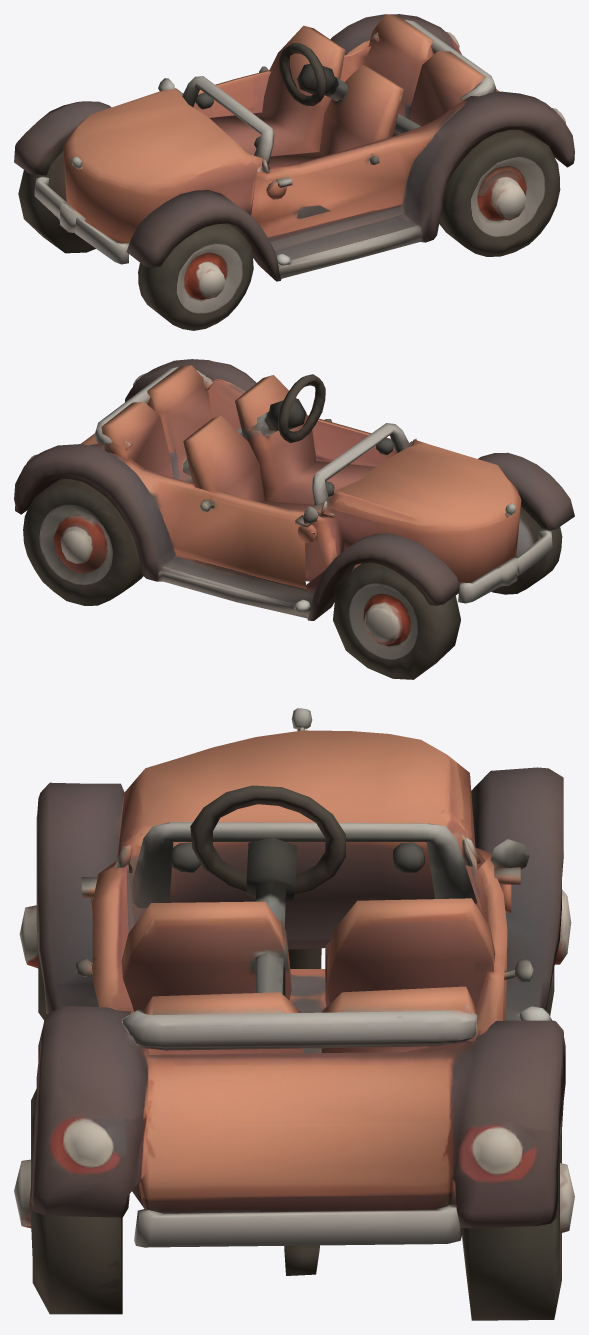
File: carro_dirigivel.glb
3 renders of one model, top to bottom at view 1: azimuth 30°, elevation 25°; view 2: azimuth 150°, elevation 25°; view 3: azimuth 270°, elevation 25°, orthographic. The views are drawn at different scales.
Visible parts, largest first — view 1: tripo_node_ec4cd011-50d6-40e3-b613-6864316892c8; view 2: tripo_node_ec4cd011-50d6-40e3-b613-6864316892c8; view 3: tripo_node_ec4cd011-50d6-40e3-b613-6864316892c8.
Part boxes in pixels (left/top/right/bottom): tripo_node_ec4cd011-50d6-40e3-b613-6864316892c8: left=14, top=14, right=574, bottom=330; tripo_node_ec4cd011-50d6-40e3-b613-6864316892c8: left=14, top=359, right=574, bottom=679; tripo_node_ec4cd011-50d6-40e3-b613-6864316892c8: left=14, top=708, right=574, bottom=1320.
Bounding box in the file's own units: 0.998 × 0.4473 × 0.584.
Materials: 1 (1 with a texture image).
